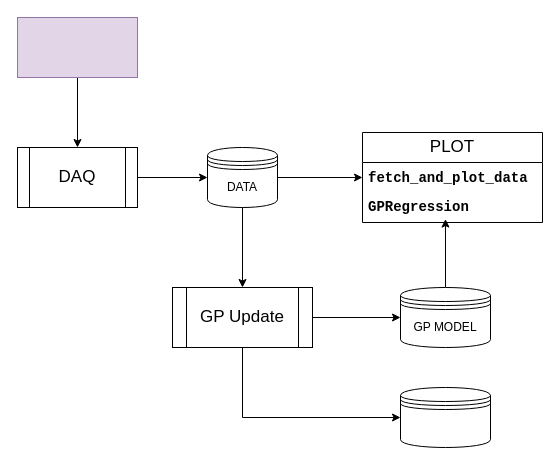
This 560x465 diagram has some shape labels left out. Each missing label, with the centre of its shape:
"JETBOT SENSOR" goes at pixel 77 47.
"MEAN ESTIMATES" goes at pixel 445 417.
